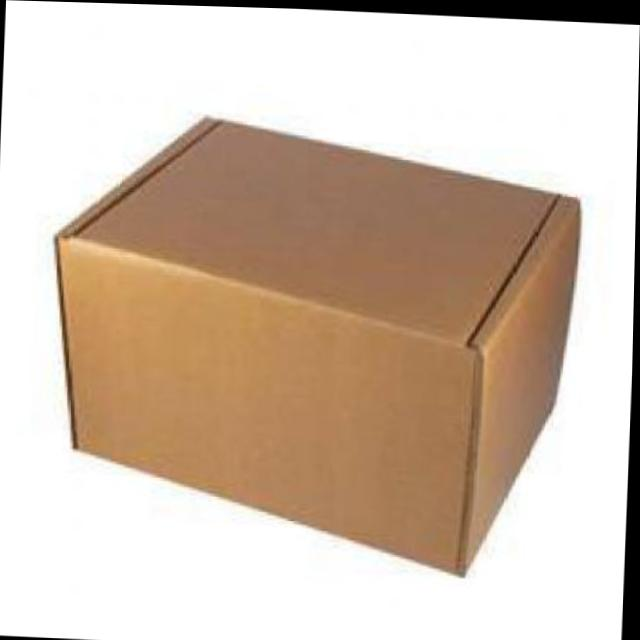box: (31, 93, 605, 590)
